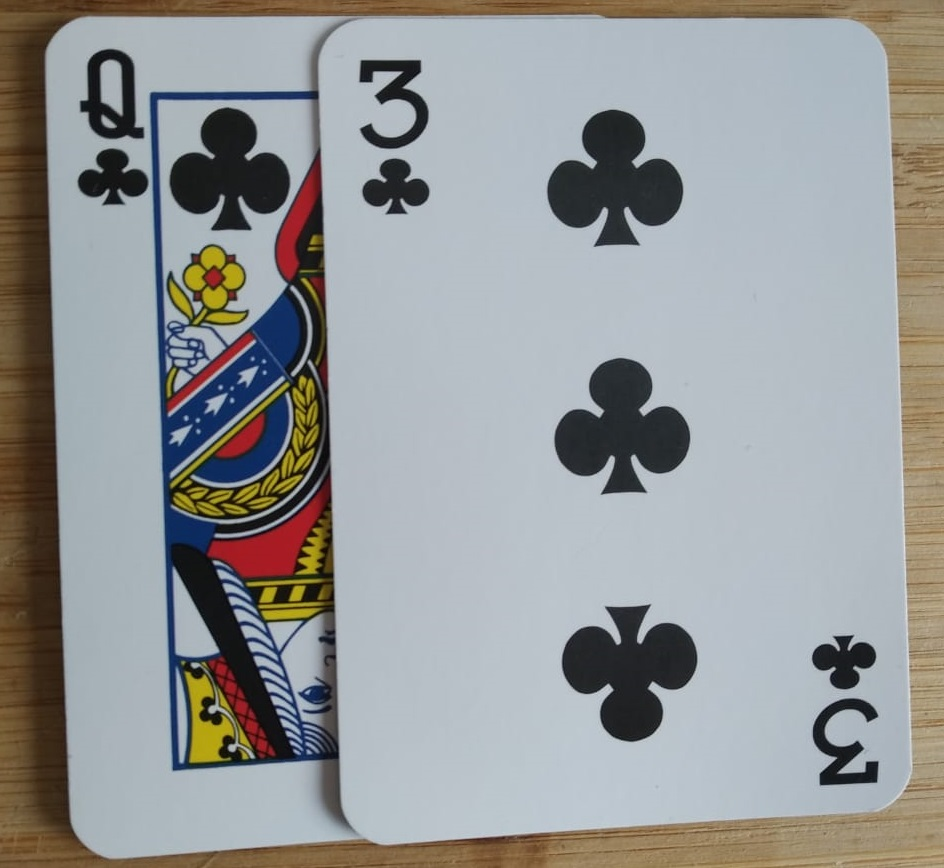queen: (39, 18, 619, 845)
three: (311, 6, 918, 851)
